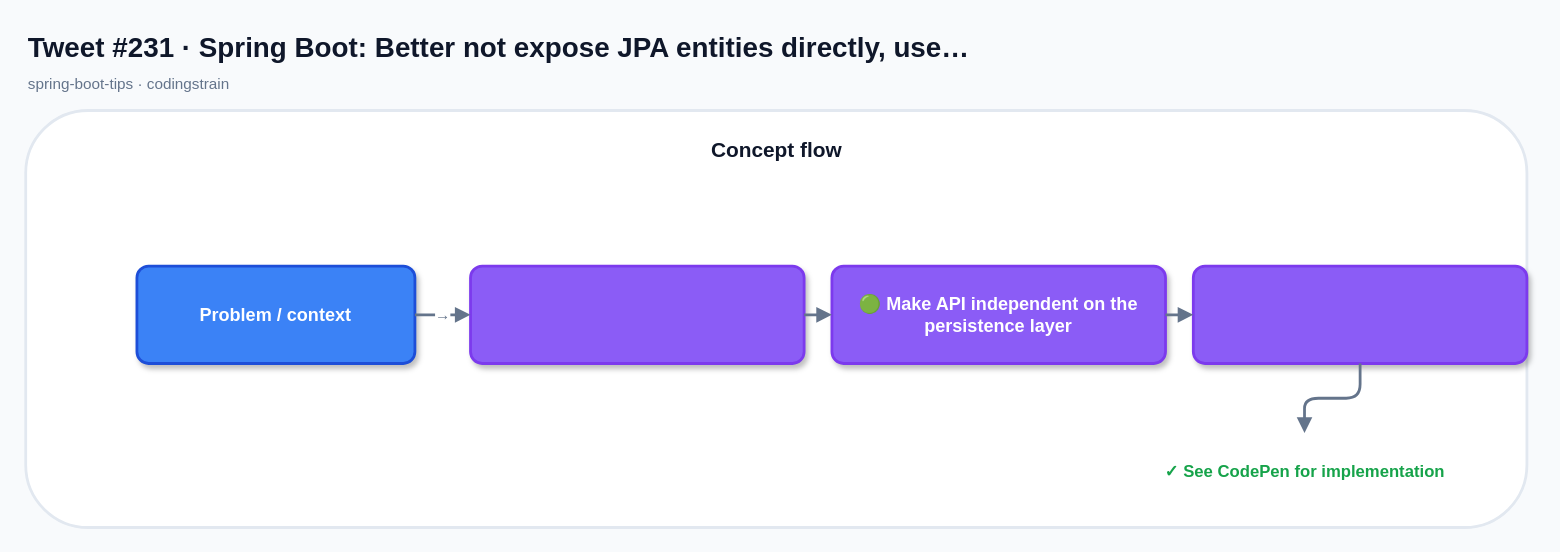
Image size: 1560x552. Some labels were removed from this diagram. Each missing label, with the centre of its shape:
"This allows to:" goes at point 638,316.
"🟢 Prevent lazy loading problems" goes at point 1361,316.
